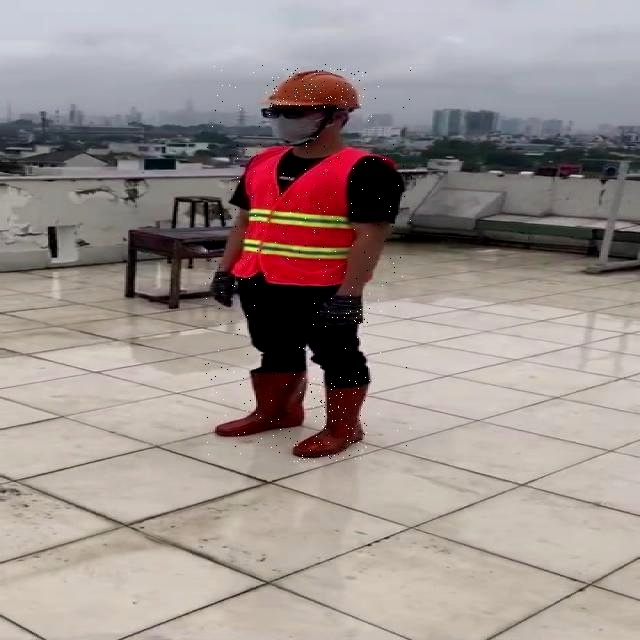boots: (331, 366, 428, 440), (273, 377, 346, 462)
gloves: (276, 280, 331, 354), (403, 259, 433, 317)
helmet: (275, 68, 374, 109)
vest: (237, 145, 410, 288)
